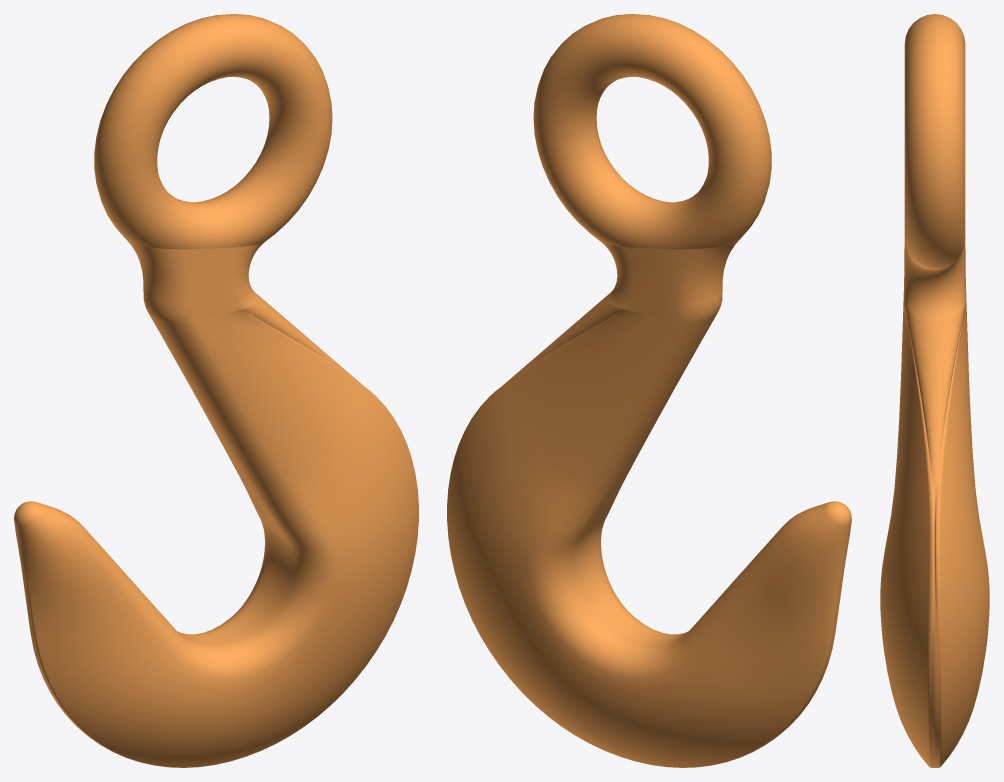
File: cambelhookglb.glb
3 views of the same model, side by side, from view 1: azimuth 30°, elevation 25°; view 2: azimuth 150°, elevation 25°; view 3: azimuth 270°, elevation 25° (orthographic). The views are drawn at different scales.
Parts seen in each view (by area): view 1: campbell_hook_3; view 2: campbell_hook_3; view 3: campbell_hook_3.
Boxes of the visible parts, box(x1,y1,x2,y2) form: campbell_hook_3: box(14, 14, 418, 767); campbell_hook_3: box(447, 14, 851, 767); campbell_hook_3: box(880, 14, 989, 767).
Size of the model in its own units: 0.1079 by 0.1917 by 0.0265.
